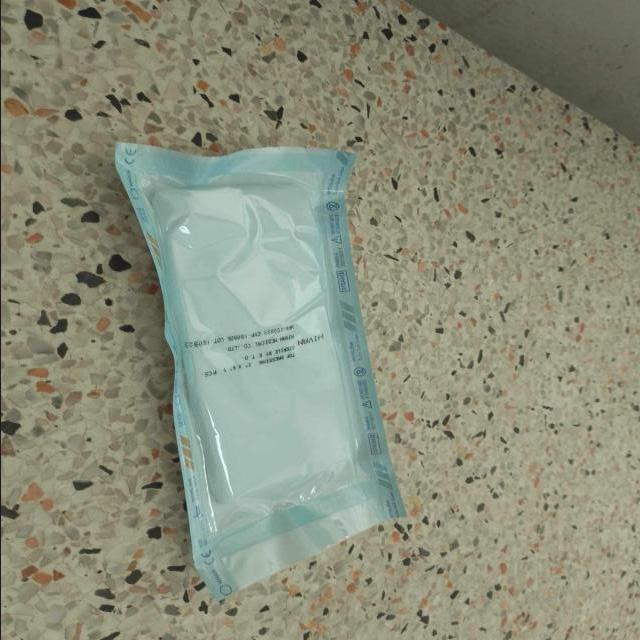Infectious: (114, 140, 407, 600)
